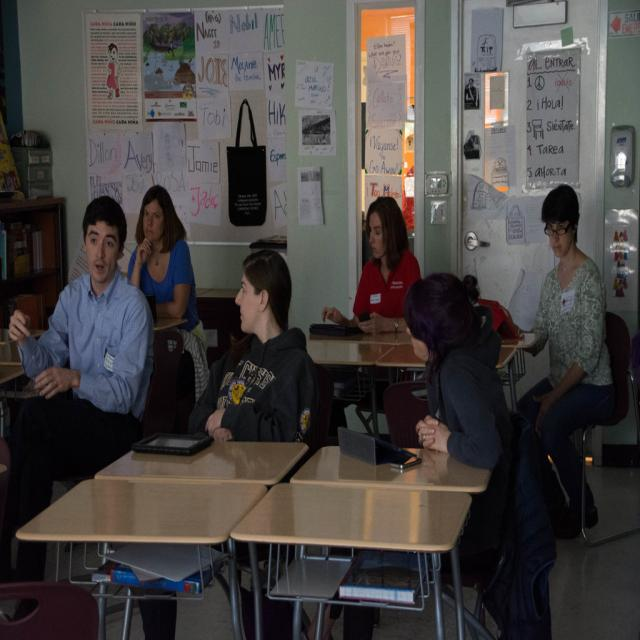chair: (142, 327, 187, 438), (382, 378, 428, 449), (301, 358, 335, 452)
desk: (16, 481, 264, 633)
laptop: (131, 430, 214, 458)
person: (0, 194, 154, 579), (403, 270, 513, 623), (512, 182, 614, 535), (186, 249, 316, 442), (127, 182, 206, 408), (321, 196, 422, 324)
